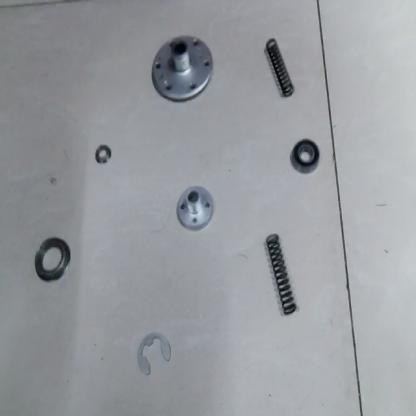FOD: (0, 1, 408, 415), (149, 31, 216, 104), (264, 228, 298, 322), (262, 32, 298, 101), (30, 234, 74, 285), (172, 184, 216, 234), (133, 331, 174, 382), (290, 132, 324, 180), (93, 142, 115, 168)
